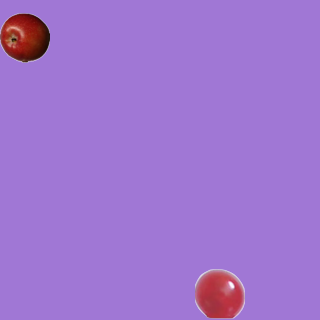Apple Braeburn: (0, 12, 49, 62)
Redcurrant: (194, 268, 244, 318)
